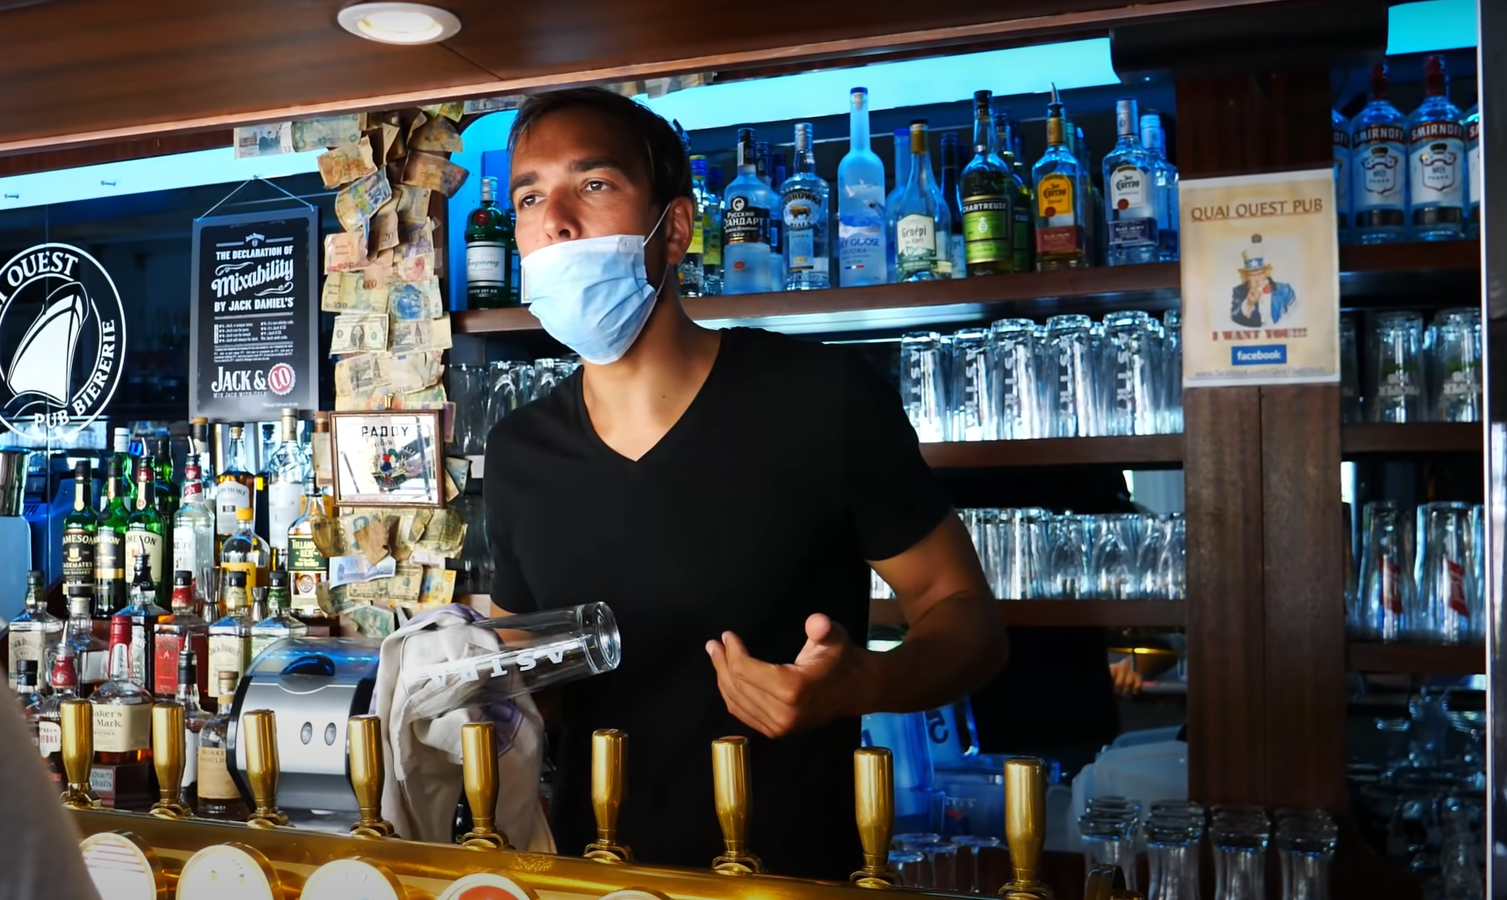with_incorrect_mask: (515, 139, 678, 373)
